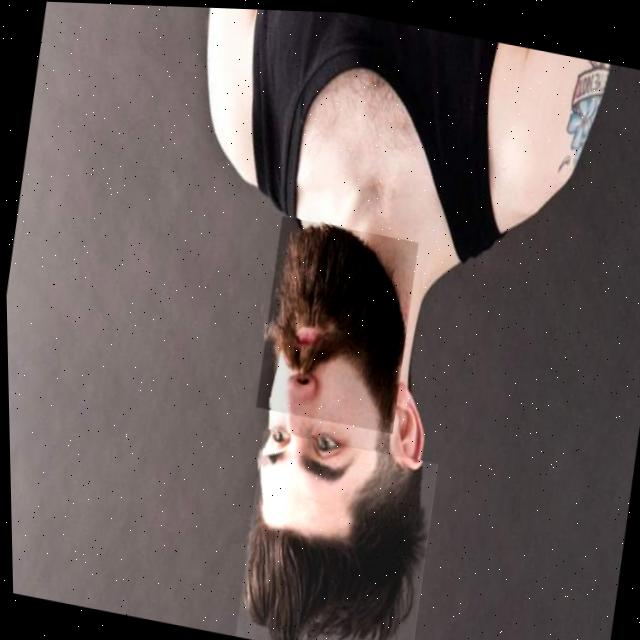beard: (265, 221, 403, 428)
hair: (240, 451, 423, 640)
